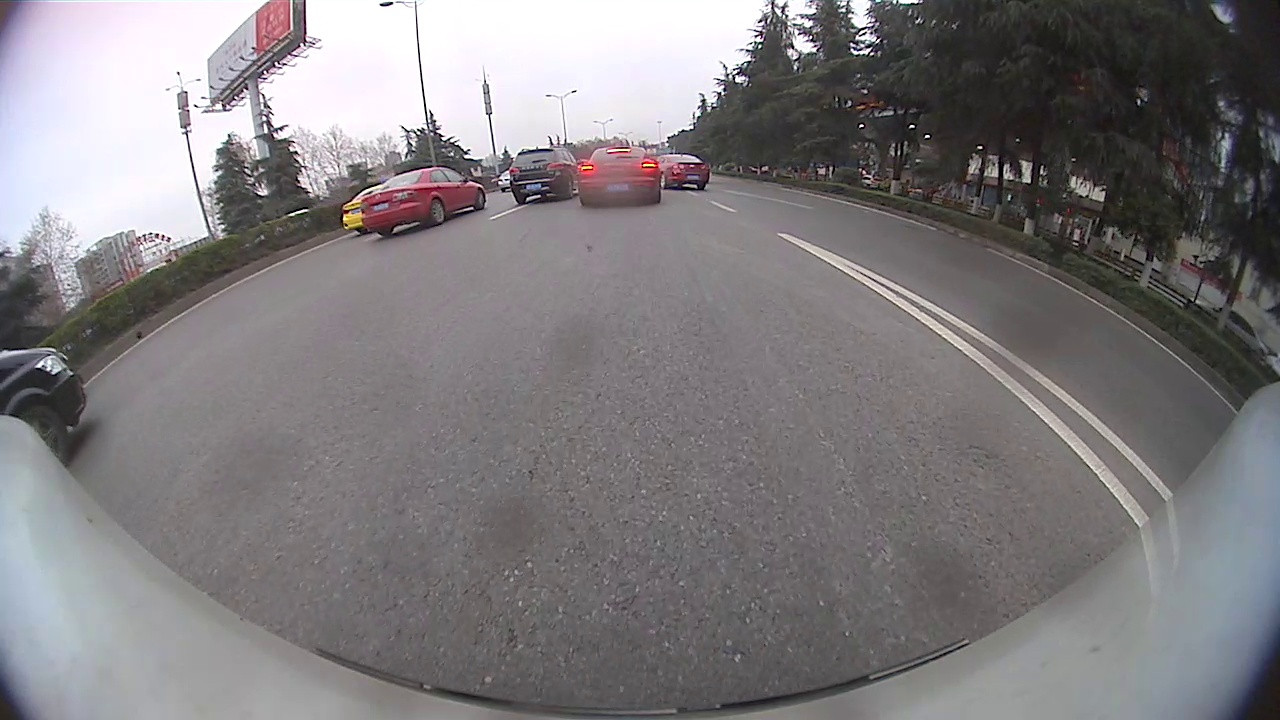car: (3, 350, 85, 464), (359, 166, 486, 232), (576, 142, 662, 208), (512, 150, 578, 203), (338, 185, 380, 235), (665, 155, 714, 190)
front: (15, 401, 73, 465), (472, 189, 486, 212)
rear: (425, 198, 447, 227)
